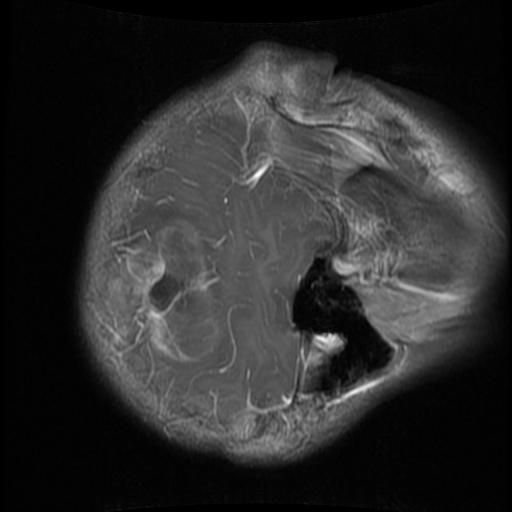glioma: (106, 218, 217, 366)
